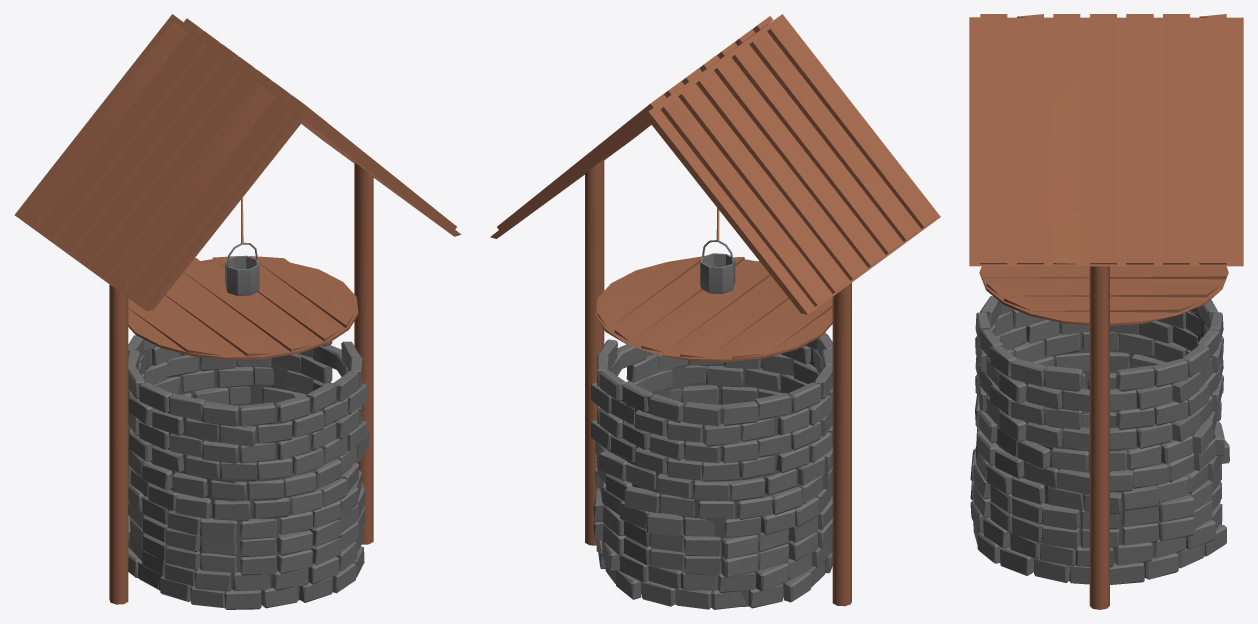
File: kolodets2.fbx
The picture shows the model from 3 angles, left to right: view 1: azimuth 30°, elevation 25°; view 2: azimuth 150°, elevation 25°; view 3: azimuth 270°, elevation 25°; orthographic projection. The views are drawn at different scales.
Visible parts, largest first — view 1: Rectangle029, Rectangle044, Rectangle051, Cylinder, Torus; view 2: Rectangle029, Rectangle044, Rectangle051, Cylinder, Torus; view 3: Rectangle044, Rectangle029, Rectangle051, Cylinder.
Part boxes in pixels (x1,y1,x2,y2): Rectangle029: [128, 335, 369, 609]; Rectangle044: [14, 14, 461, 311]; Rectangle051: [109, 162, 373, 604]; Cylinder: [132, 349, 352, 600]; Torus: [225, 197, 259, 295]; Rectangle029: [590, 332, 832, 609]; Rectangle044: [490, 14, 940, 314]; Rectangle051: [585, 159, 851, 606]; Cylinder: [610, 348, 832, 607]; Torus: [700, 208, 735, 293]; Rectangle044: [969, 14, 1243, 266]; Rectangle029: [970, 296, 1229, 584]; Rectangle051: [979, 266, 1228, 609]; Cylinder: [984, 307, 1216, 569].
Size of the model in its own units: 278 by 424 by 200.
